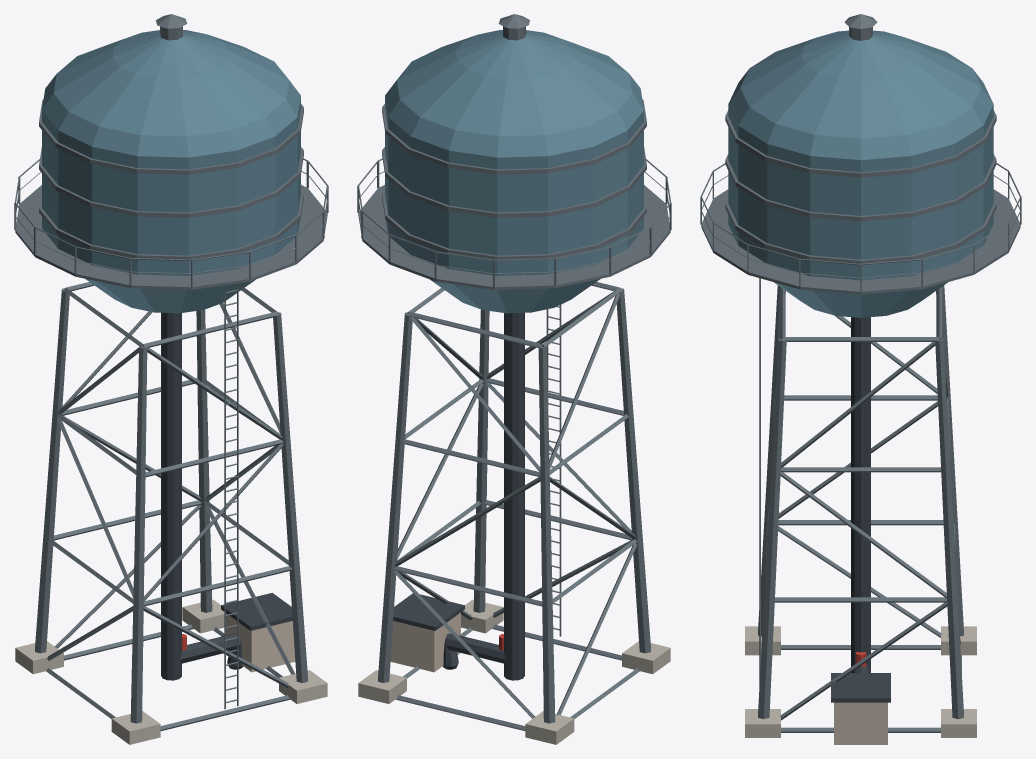
Rendered from RURAL_02.obj.
3 views of the same model, side by side, from view 1: azimuth 30°, elevation 25°; view 2: azimuth 150°, elevation 25°; view 3: azimuth 270°, elevation 25° (orthographic).
Visible parts, largest first — view 1: tank, legs_braces, legs, riser_pipe, walkway, tank_bands, footings, pump_house, ladder, walkway_rail, outlet_pipe, tank_cap; view 2: tank, legs_braces, legs, riser_pipe, walkway, tank_bands, footings, pump_house, walkway_rail, ladder, outlet_pipe, tank_cap; view 3: tank, legs_braces, legs, walkway, riser_pipe, tank_bands, pump_house, footings, walkway_rail, ladder, tank_cap.
Boxes of the visible parts, left/top/right/bottom form: tank: left=42, top=30, right=300, bottom=313; legs_braces: left=46, top=282, right=294, bottom=730; legs: left=35, top=288, right=307, bottom=723; riser_pipe: left=161, top=312, right=181, bottom=680; walkway: left=15, top=185, right=327, bottom=289; tank_bands: left=39, top=99, right=303, bottom=260; footings: left=15, top=599, right=327, bottom=744; pump_house: left=221, top=592, right=295, bottom=672; ladder: left=224, top=287, right=238, bottom=709; walkway_rail: left=14, top=158, right=328, bottom=287; outlet_pipe: left=180, top=633, right=243, bottom=669; tank_cap: left=156, top=14, right=187, bottom=40; tank: left=385, top=30, right=643, bottom=313; legs_braces: left=394, top=282, right=639, bottom=730; legs: left=378, top=288, right=650, bottom=723; riser_pipe: left=504, top=312, right=524, bottom=680; walkway: left=358, top=185, right=670, bottom=289; tank_bands: left=382, top=99, right=646, bottom=260; footings: left=358, top=599, right=670, bottom=744; pump_house: left=390, top=593, right=464, bottom=672; walkway_rail: left=357, top=158, right=671, bottom=287; ladder: left=546, top=304, right=561, bottom=636; outlet_pipe: left=442, top=633, right=505, bottom=669; tank_cap: left=498, top=14, right=529, bottom=40; tank: left=728, top=30, right=993, bottom=317; legs_braces: left=761, top=287, right=961, bottom=732; legs: left=758, top=285, right=963, bottom=719; walkway: left=701, top=189, right=1020, bottom=294; riser_pipe: left=851, top=317, right=870, bottom=672; tank_bands: left=725, top=110, right=996, bottom=263; pump_house: left=831, top=673, right=890, bottom=744; footings: left=745, top=626, right=976, bottom=737; walkway_rail: left=700, top=163, right=1021, bottom=292; ladder: left=759, top=278, right=760, bottom=685; tank_cap: left=844, top=14, right=877, bottom=40.
Bounding box in the file's own units: 10.65 × 24.94 × 10.65.
